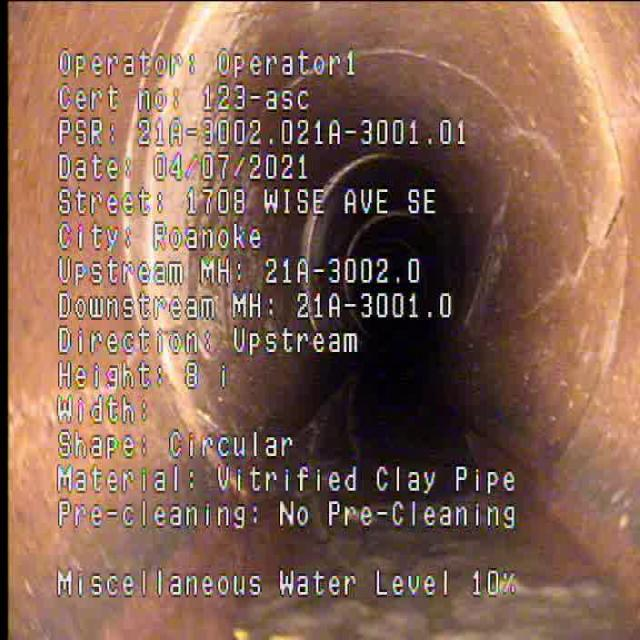Crack: (480, 72, 624, 288)
